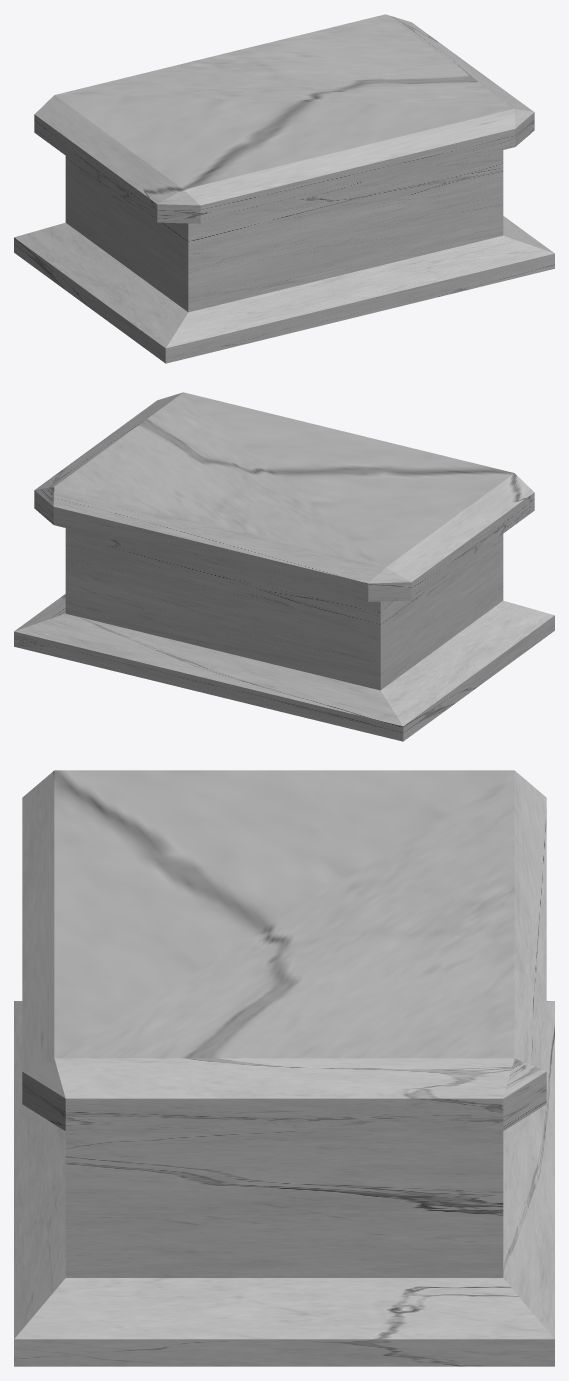
Rendered from Table_Marble.glb.
3 renders of one model, top to bottom at view 1: azimuth 30°, elevation 25°; view 2: azimuth 150°, elevation 25°; view 3: azimuth 270°, elevation 25°, orthographic. The views are drawn at different scales.
Parts seen in each view (by area): view 1: table_marble; view 2: table_marble; view 3: table_marble.
Part boxes in pixels (left/top/right/bottom): table_marble: left=14, top=14, right=554, bottom=363; table_marble: left=14, top=392, right=554, bottom=741; table_marble: left=14, top=770, right=554, bottom=1366.
Size of the model in its own units: 37.02 by 14.43 by 25.
Materials: 1 (1 with a texture image).
